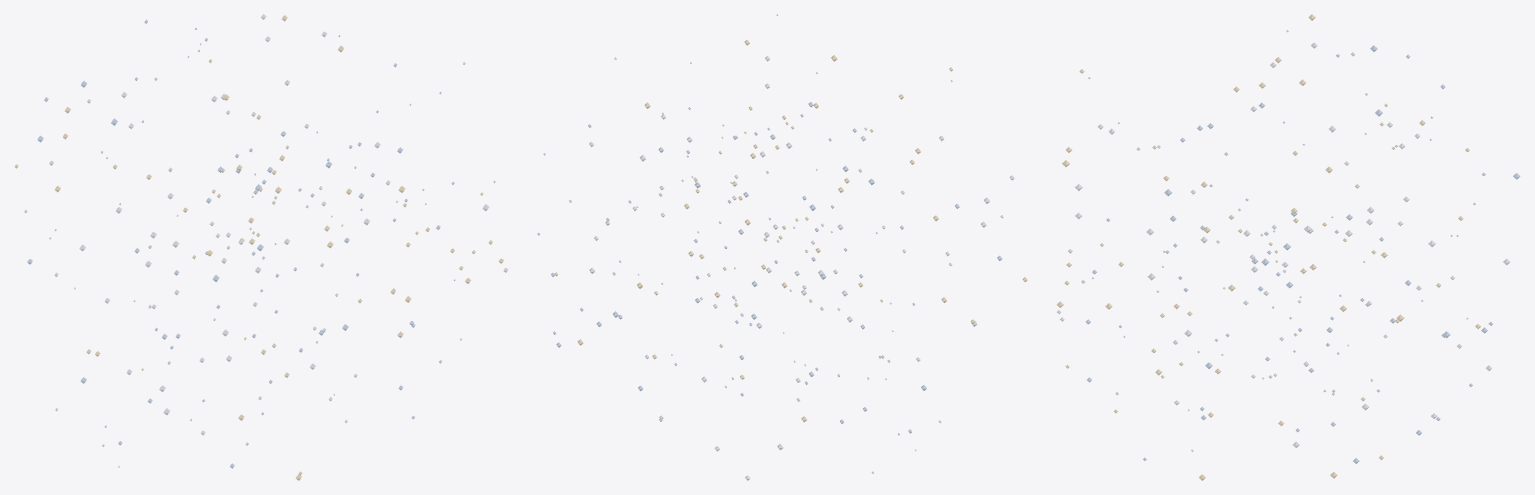
3 views of the same model, side by side, from view 1: azimuth 30°, elevation 25°; view 2: azimuth 150°, elevation 25°; view 3: azimuth 270°, elevation 25° (orthographic). The views are drawn at different scales.
Size of the model in its own units: 5.12 by 4.56 by 4.41.
